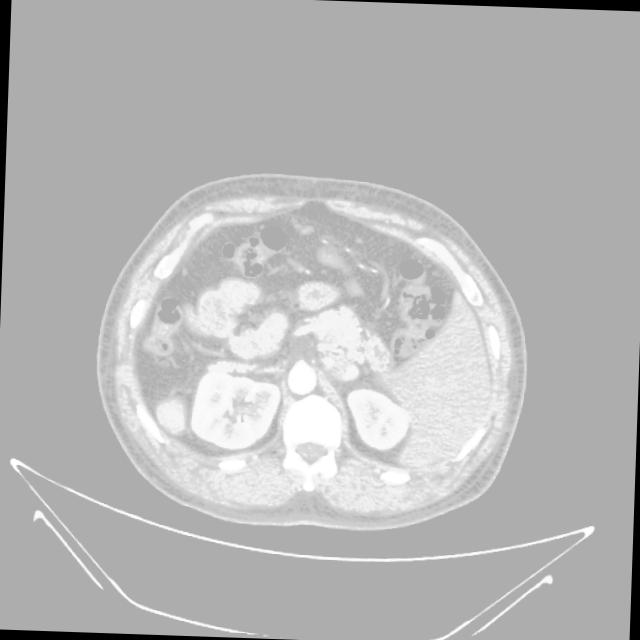NORMAL: (93, 183, 532, 516)
